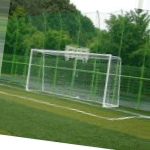goals: (25, 47, 124, 110)
